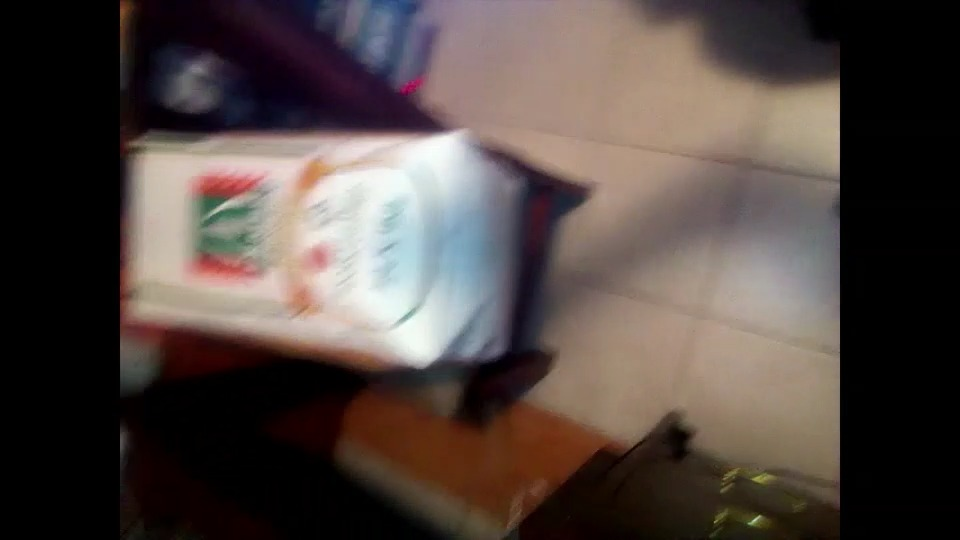maize_flour_green_label: (120, 124, 519, 367)
